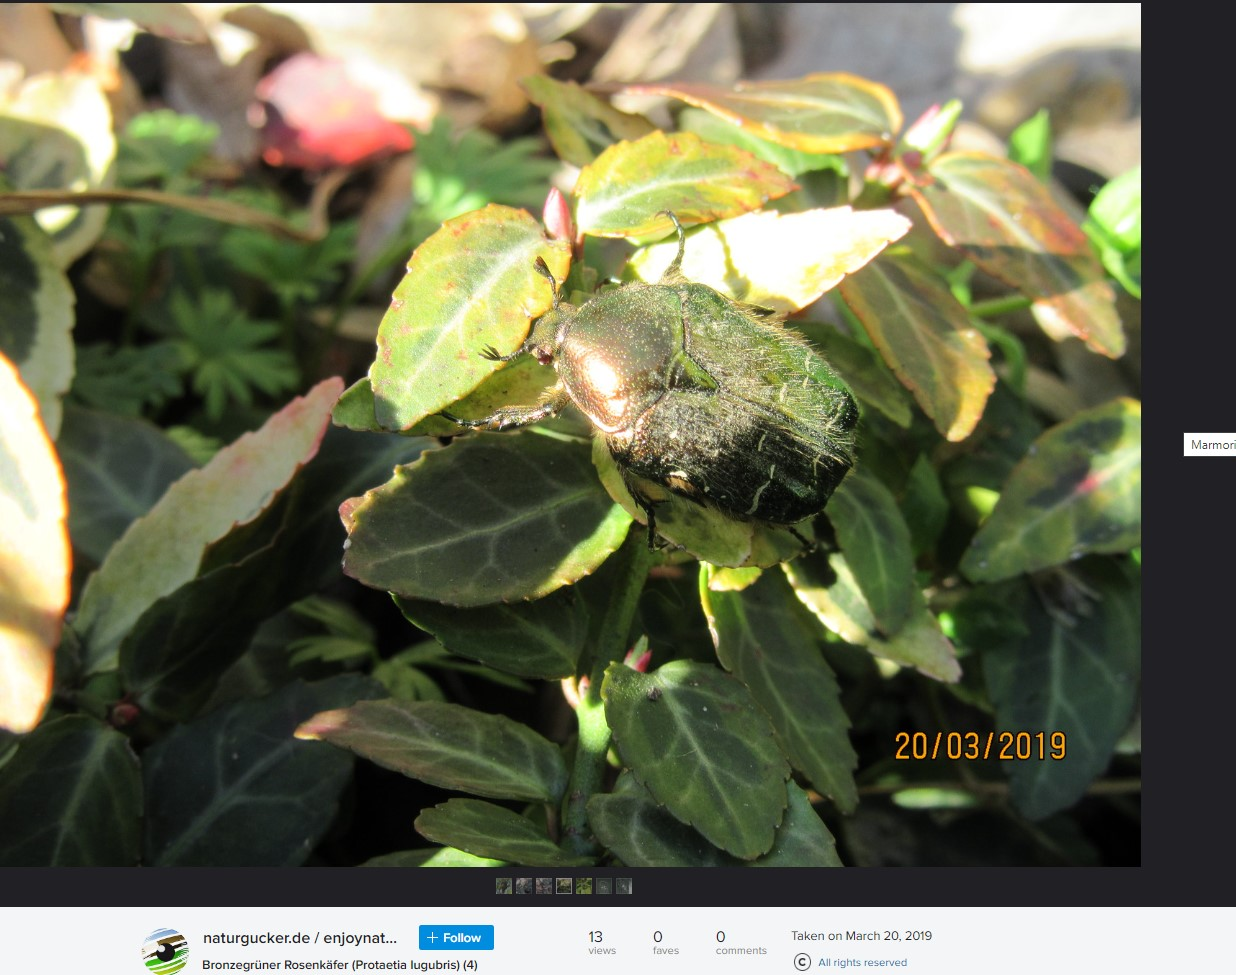Protaetia_lugubris: (426, 206, 872, 573)
